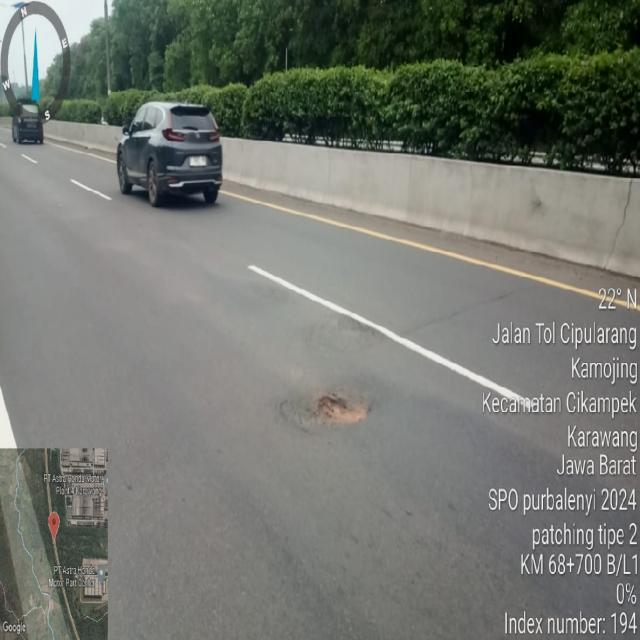Buraco: (295, 386, 376, 430)
